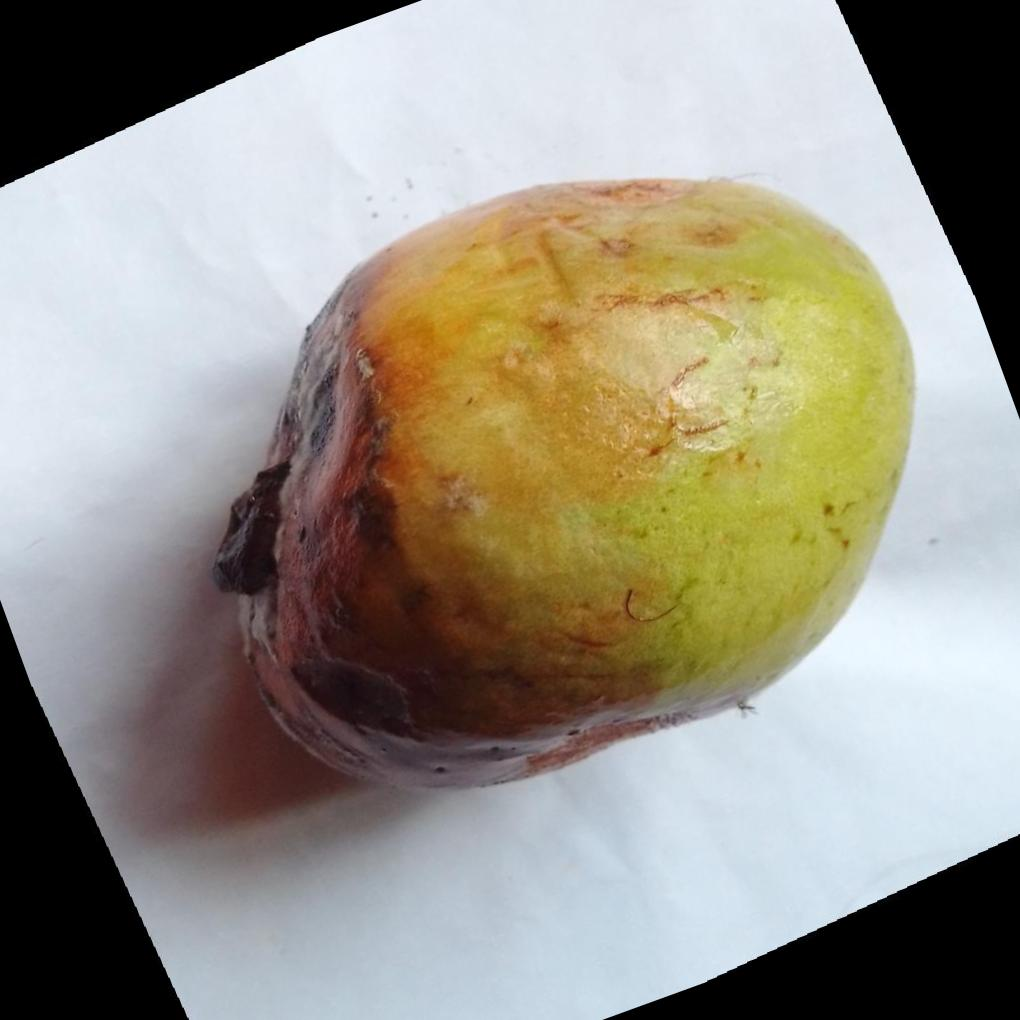FreshOrange: (238, 178, 918, 795)
